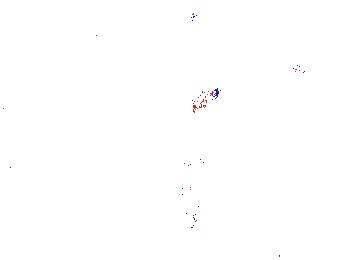red belly glassfish: (164, 85, 221, 117), (278, 63, 308, 77), (184, 7, 204, 27)
redtail glassfish: (179, 160, 211, 233)
siberian prawn: (27, 226, 107, 254)
